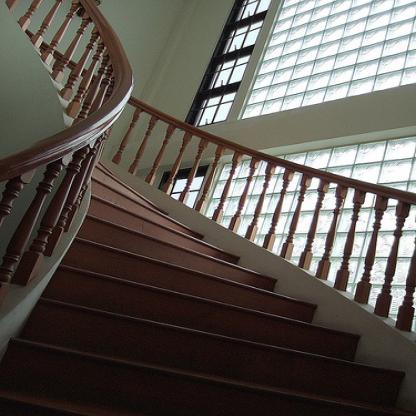stairs: (34, 303, 310, 416)
